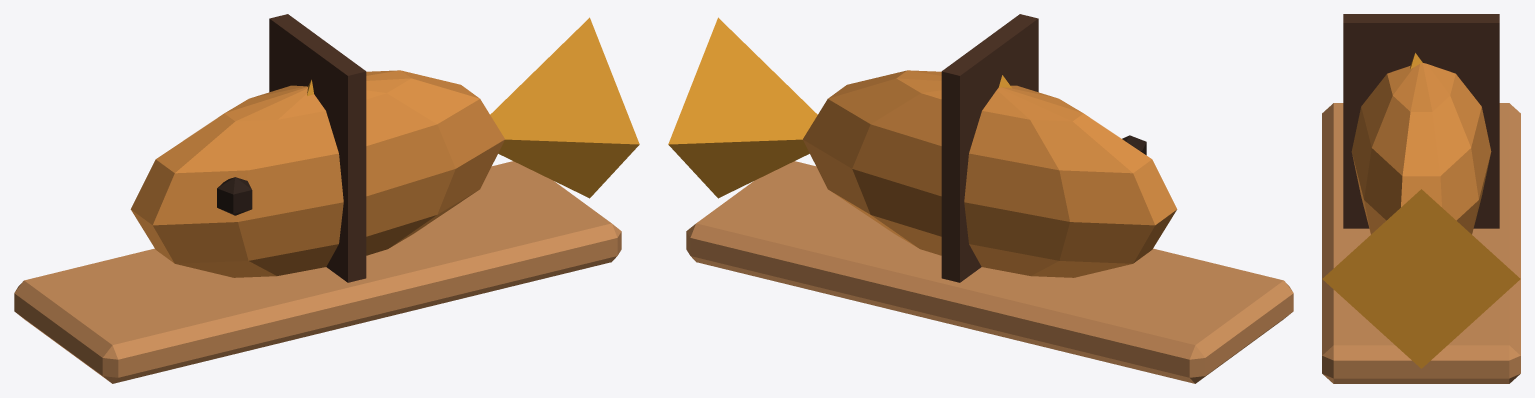
Rendered from good_smoked_fish.glb.
The picture shows the model from 3 angles, left to right: view 1: azimuth 30°, elevation 25°; view 2: azimuth 150°, elevation 25°; view 3: azimuth 270°, elevation 25°; orthographic projection.
Visible parts, largest first — view 1: good_smoked_fish; view 2: good_smoked_fish; view 3: good_smoked_fish.
Boxes of the visible parts, box(x1,y1,x2,y2) form: good_smoked_fish: box(14, 14, 639, 383); good_smoked_fish: box(668, 14, 1293, 383); good_smoked_fish: box(1322, 14, 1520, 383).
Bounding box in the file's own units: 0.43 × 0.19 × 0.14.
